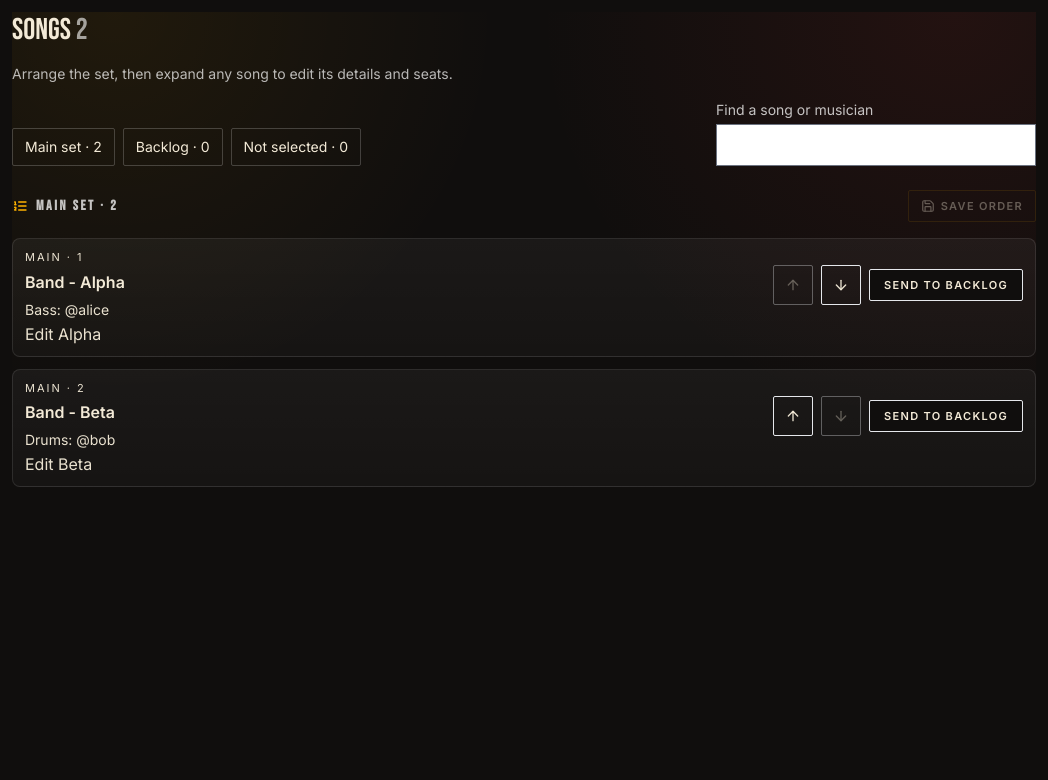
Scenario: unified admin song workspace › retains an unsaved draft and shows recoverable feedback when saving fails
The image size is (1048, 780).
Click the button named "Move Band - Alpha down".
click(841, 285)  # box [821,265,861,305]
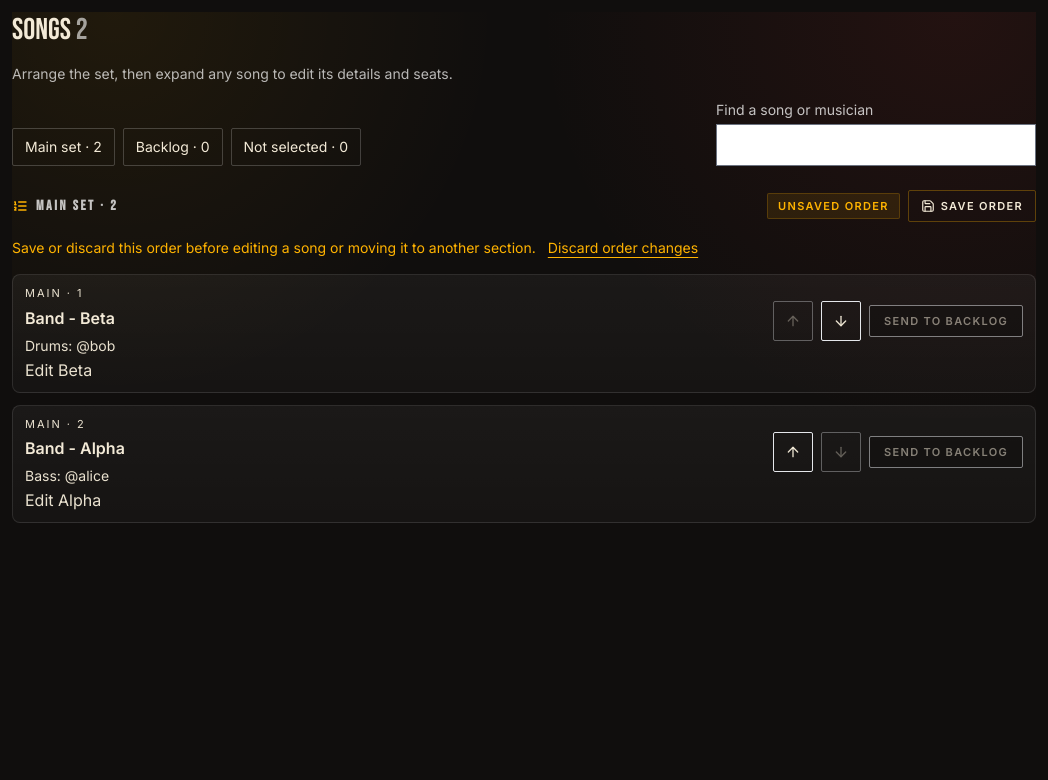
Click the button with aria-label "Save Main set order".
click(972, 206)  # box [908,190,1036,222]
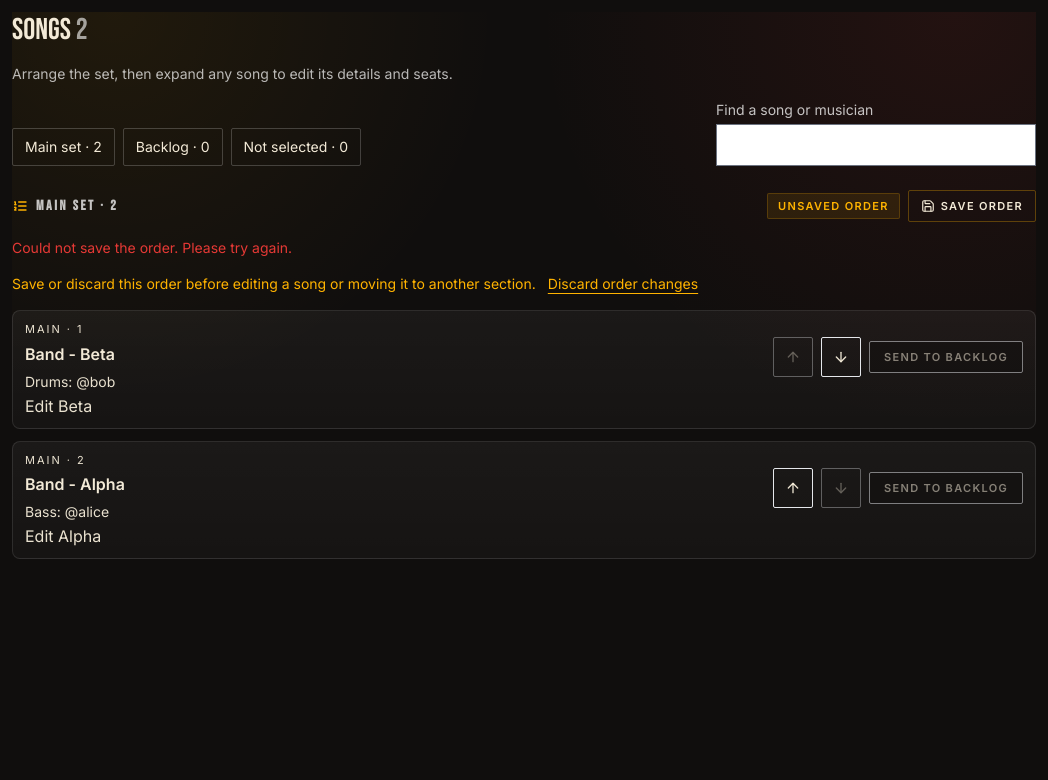
Expected: the text "Unsaved order" is shown, [767,193,900,219]
Expected: the button with aria-label "Save Main set order" is enabled
Expected: the message "Could not save the order. Please try again." is shown, [12,239,292,256]
Click the button with aria-label "Save Main set order".
click(972, 206)  # box [908,190,1036,222]
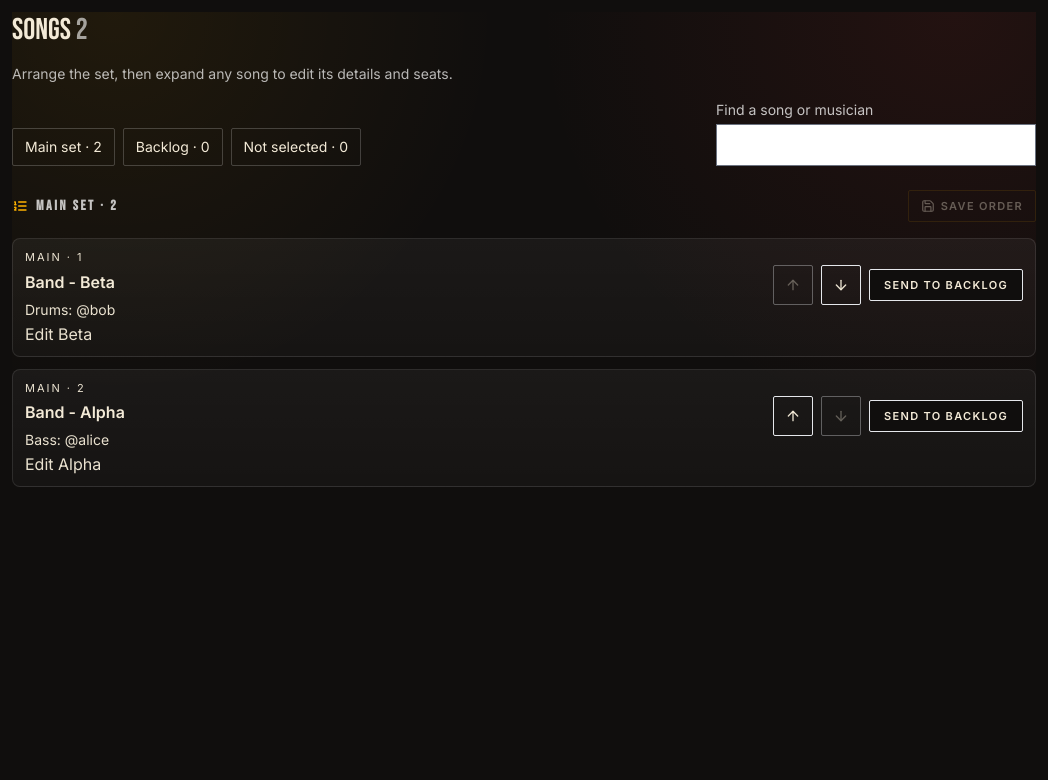
Expected: the text "Unsaved order" is gone
Expected: the message "Could not save the order. Please try again." is gone
